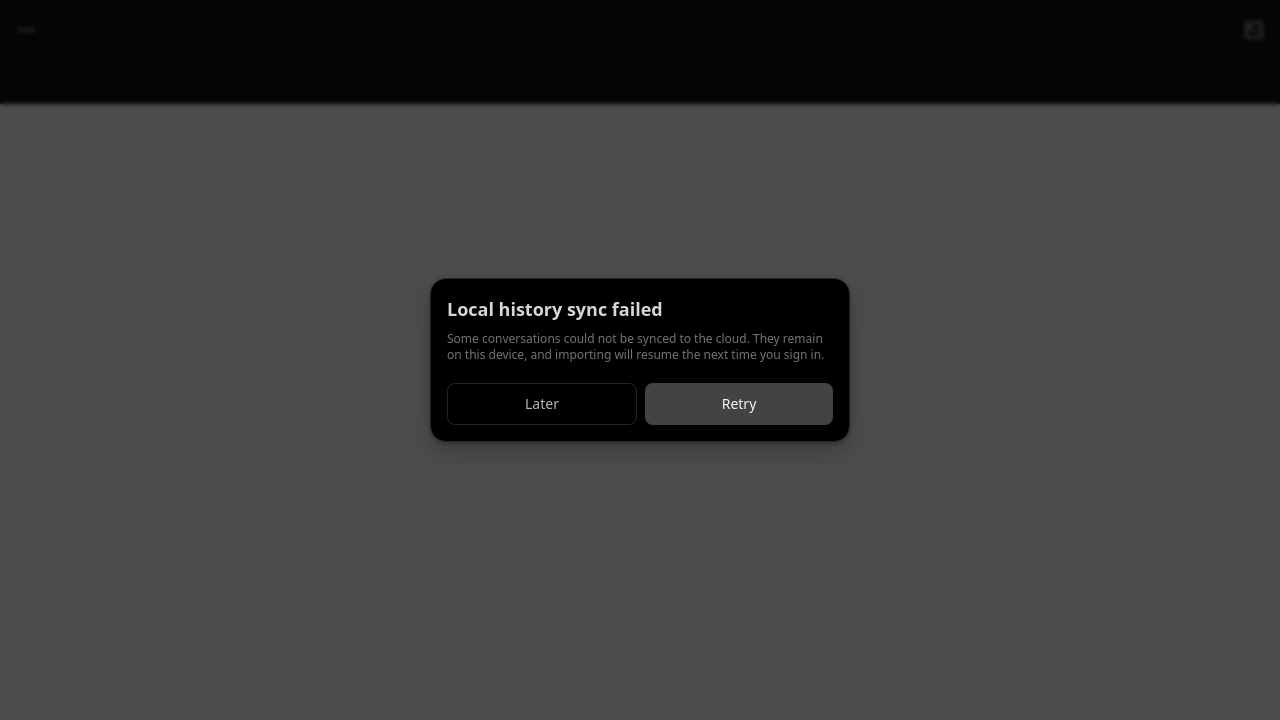
Scenario: App password recovery › opens the cloud library the moment the reader chooses to leave it for later
Click the button "Later" at [542, 404], box top-left (447, 383), bottom-right (637, 425)
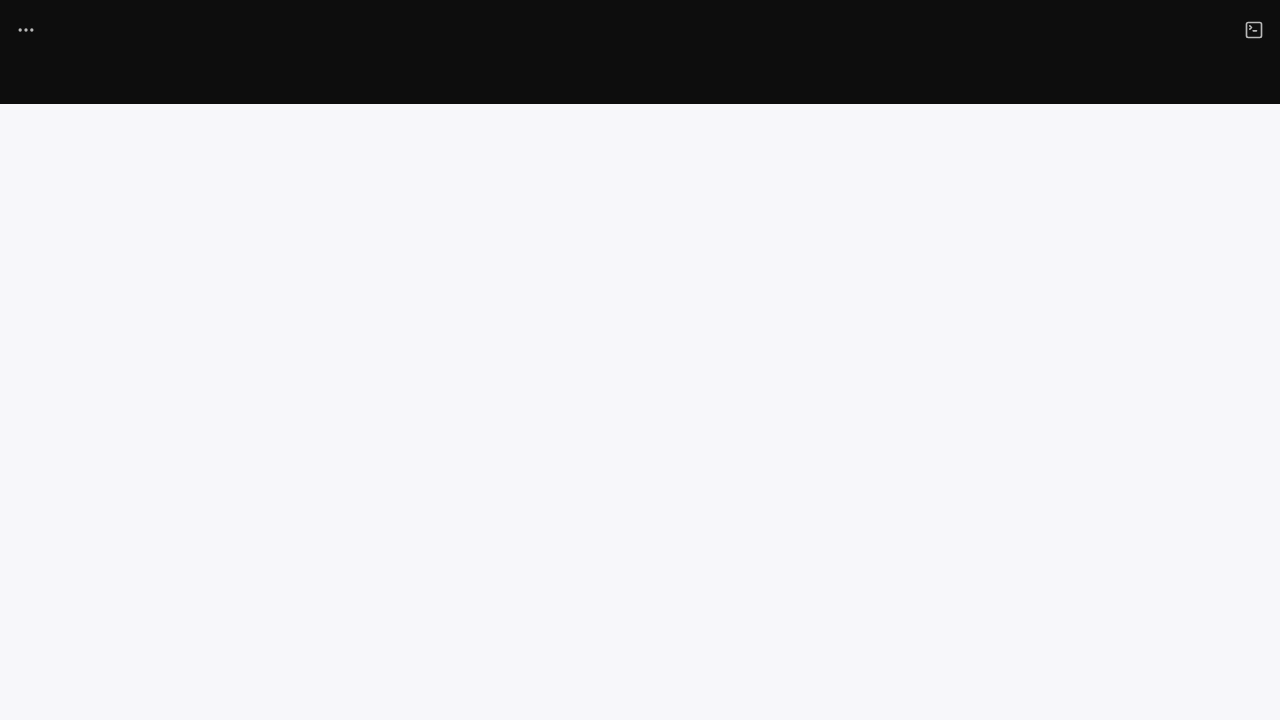
Result: the text "Local history sync failed" is gone
